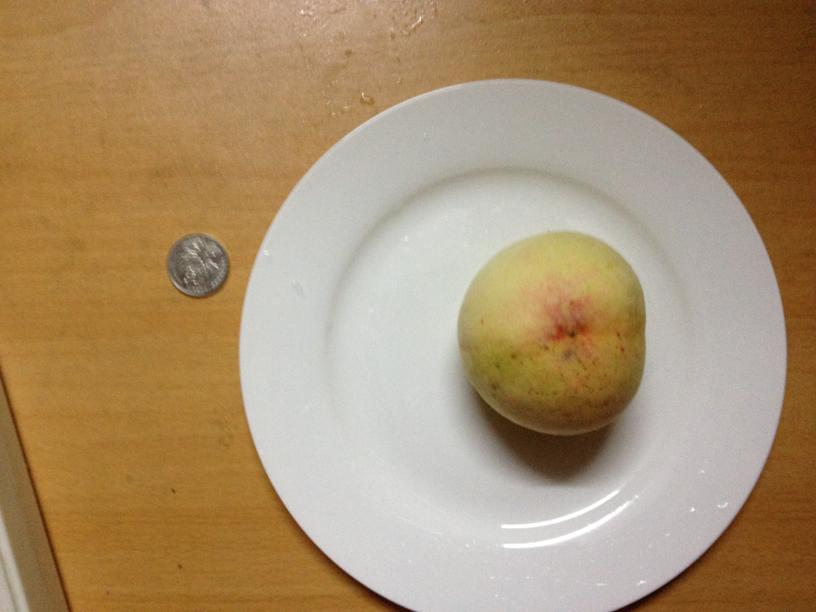coin: (165, 231, 228, 299)
peach: (460, 229, 646, 434)
